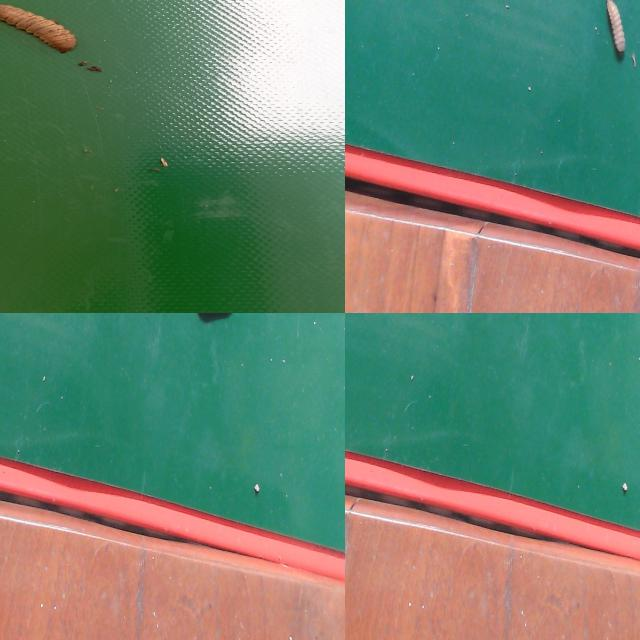Maggot: (0, 3, 78, 55), (604, 1, 631, 64), (196, 313, 233, 325)
